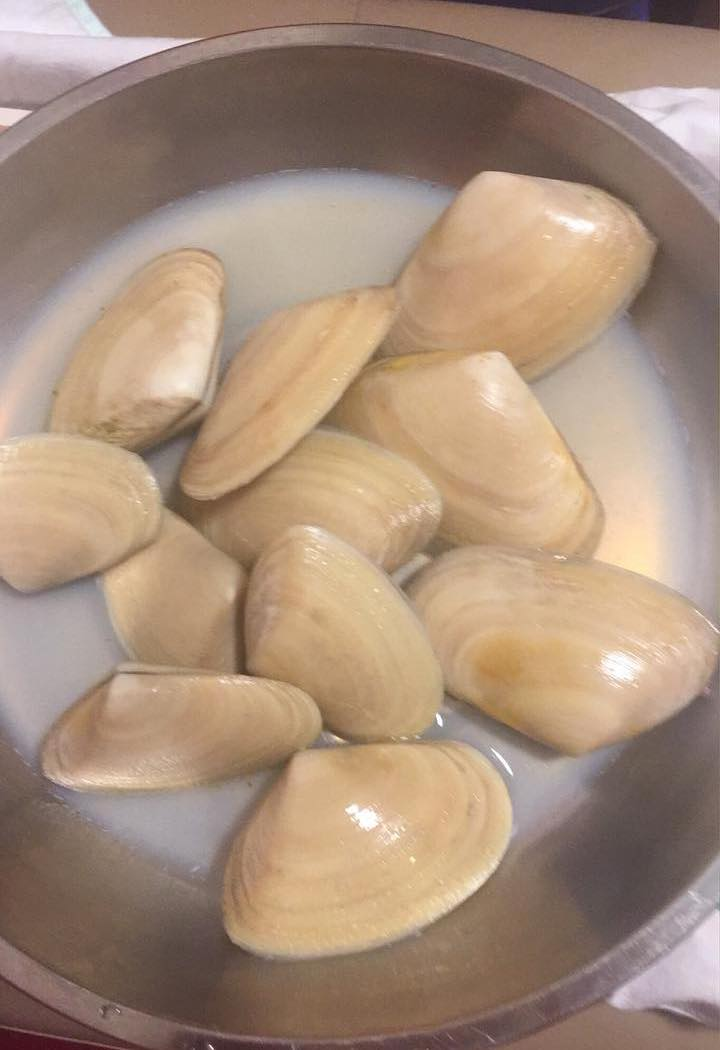tuatua: (396, 536, 718, 754), (216, 739, 517, 959), (373, 162, 659, 385), (332, 347, 620, 555), (177, 283, 403, 503), (237, 522, 444, 742), (42, 243, 228, 451), (191, 436, 439, 587), (39, 661, 321, 792), (2, 424, 166, 600), (98, 507, 251, 688)
